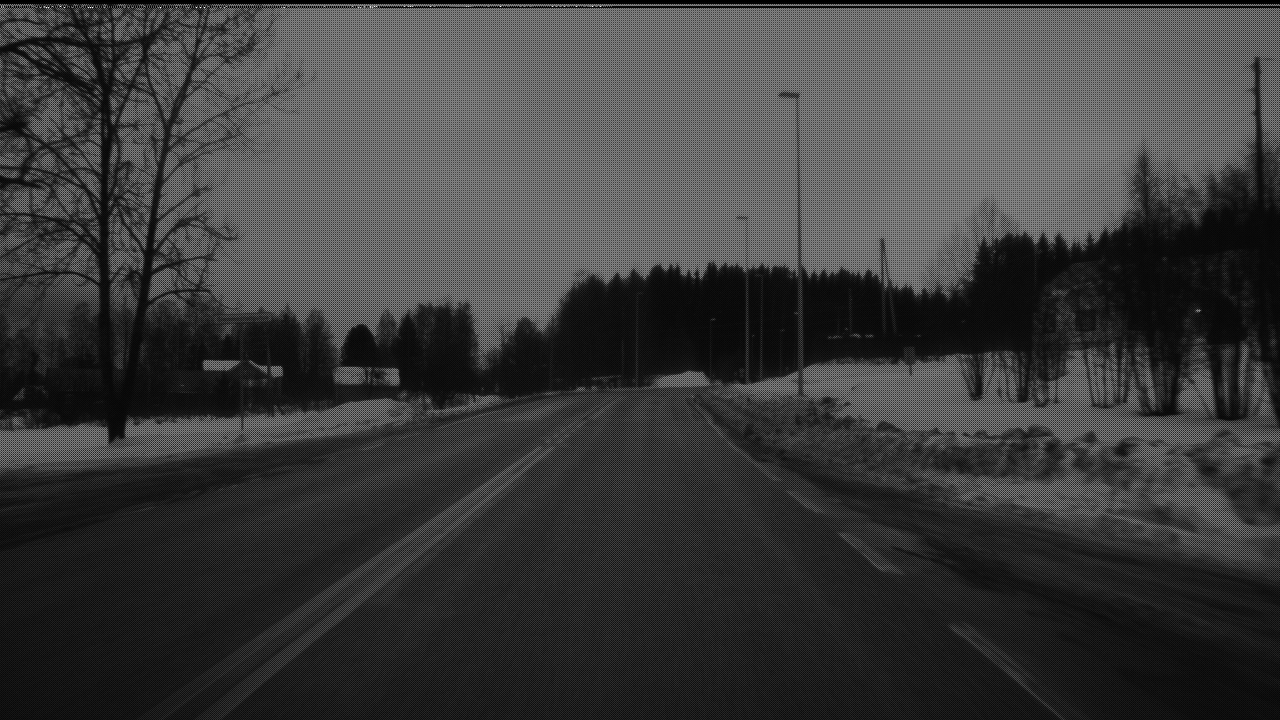pole: (794, 90, 803, 388), (743, 212, 749, 375)
